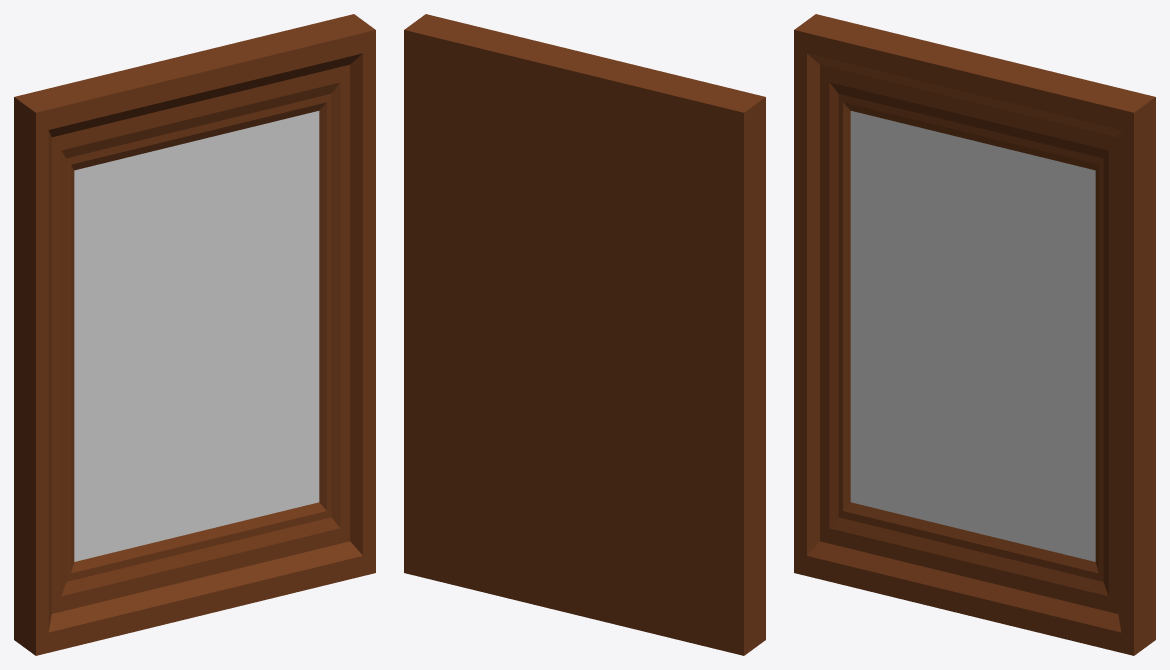
Rendered from CtrlAlt_Moldure_4.fbx.
3 views of the same model, side by side, from view 1: azimuth 30°, elevation 25°; view 2: azimuth 150°, elevation 25°; view 3: azimuth 330°, elevation 25° (orthographic).
Parts seen in each view (by area): view 1: Cube; view 2: Cube; view 3: Cube.
Part boxes in pixels (bbox=[...]): Cube: bbox=[14, 14, 375, 655]; Cube: bbox=[404, 14, 765, 655]; Cube: bbox=[794, 14, 1155, 655].
Size of the model in its own units: 197 by 300 by 21.75.
